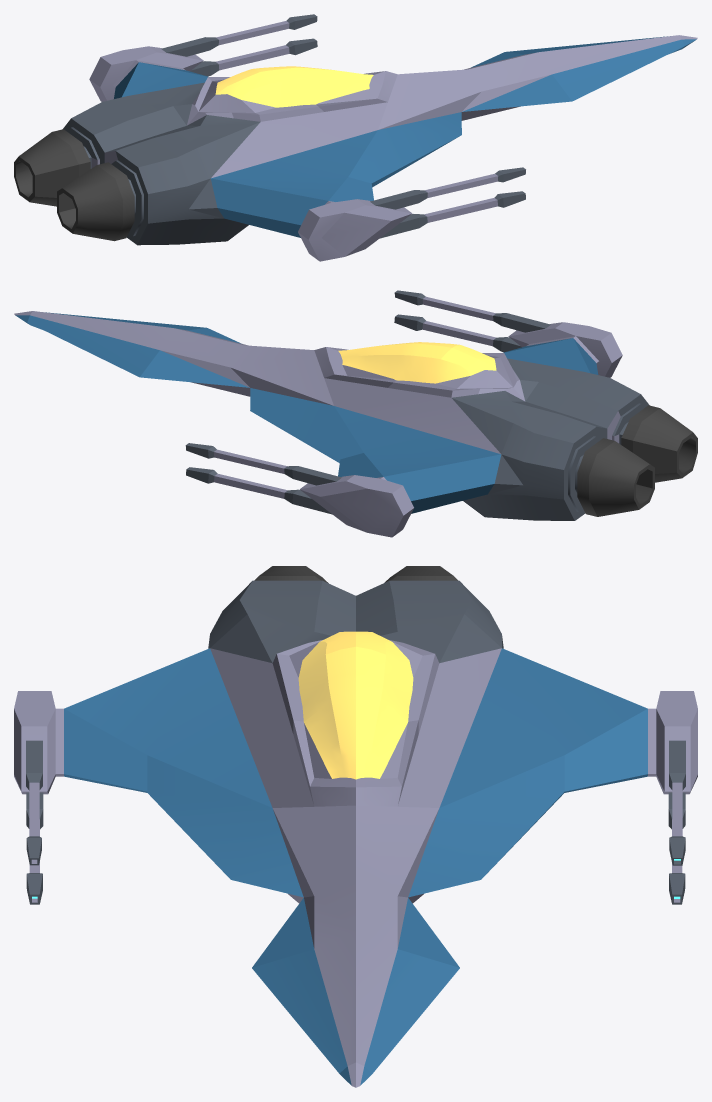
Rendered from Azure-Arrow-V2-ship-v02.glb.
3 views of the same model, one above another, from view 1: azimuth 30°, elevation 25°; view 2: azimuth 150°, elevation 25°; view 3: azimuth 270°, elevation 25° (orthographic). The views are drawn at different scales.
Parts seen in each view (by area): view 1: Ship; view 2: Ship; view 3: Ship.
Part boxes in pixels (x1,y1,x2,y2): Ship: (14,14,697,261); Ship: (14,290,697,537); Ship: (14,566,697,1087).
Size of the model in its own units: 27.8 by 4.96 by 16.4.
